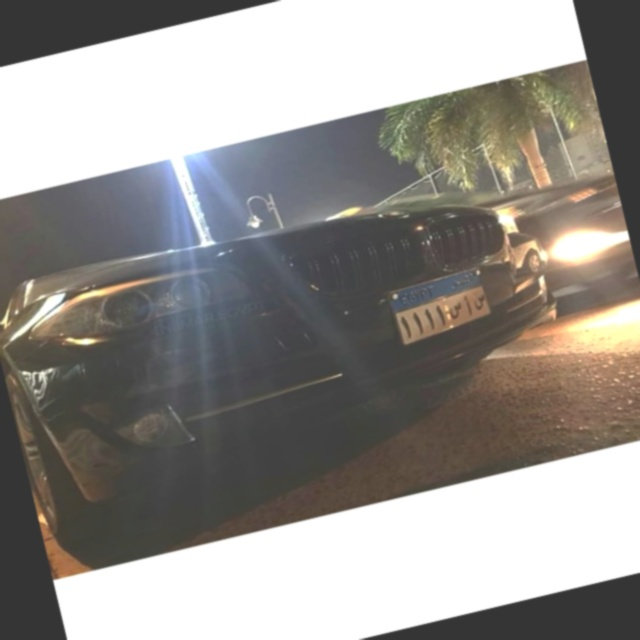License Plate: (382, 263, 502, 349)
